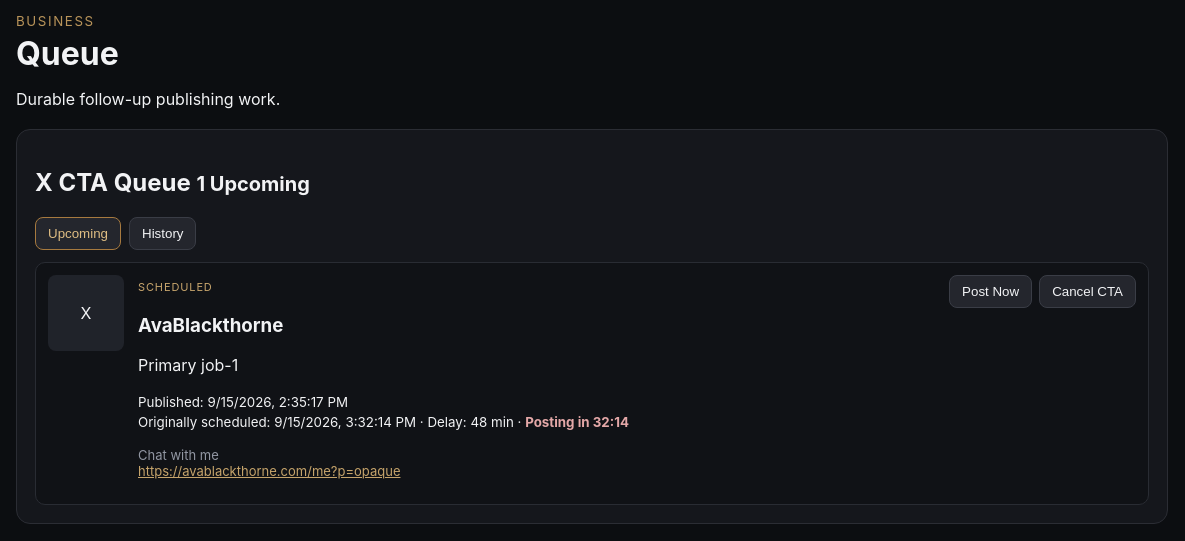
Test: BusinessQueuePage countdown lifecycle › removes a cancelled item and its timer after the existing mutation
Expected: the text "Posting in 32:14" is shown, [525,414,629,430]
What coordinates should you click on to do the following:
click the button "Cancel CTA"
I would click on:
 (1088, 291)
Its box is [1039,275,1136,308].
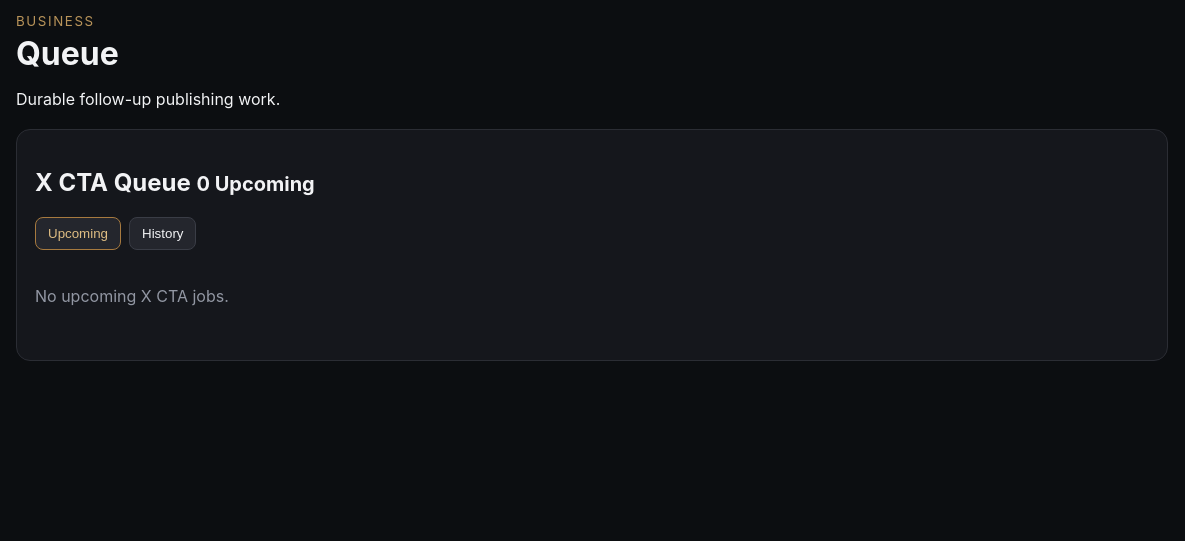
Expected: the text "Posting in" is gone
